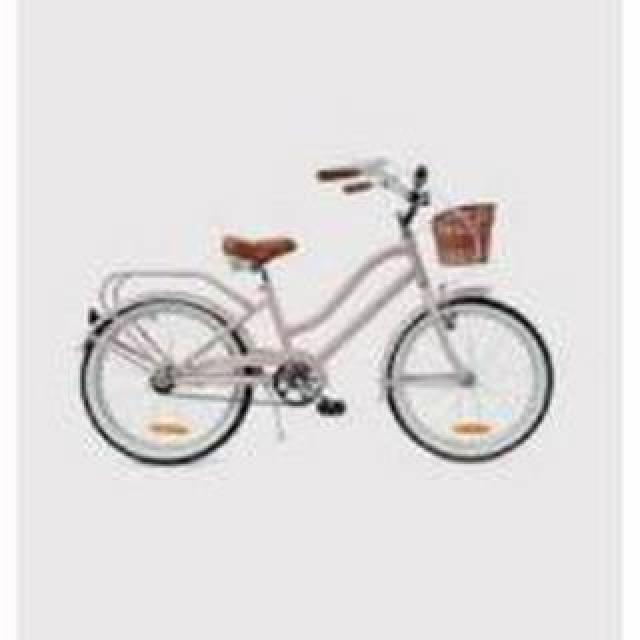Person: (82, 160, 552, 470)
